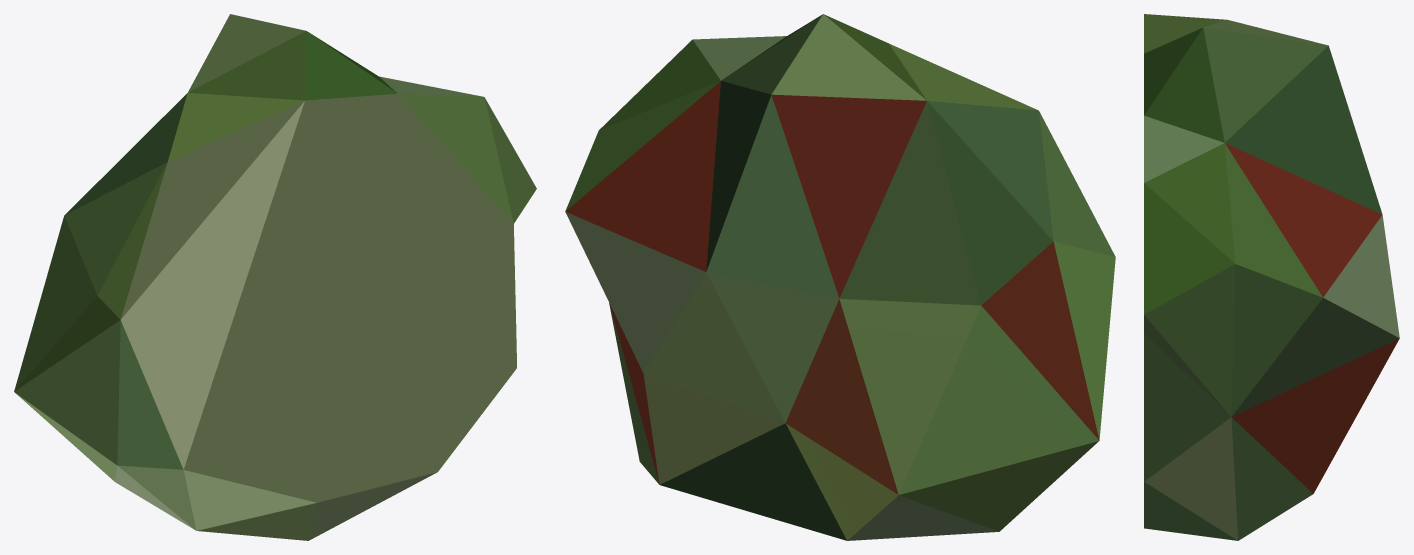
Rendered from Bush_A-DetailB.fbx.
3 views of the same model, side by side, from view 1: azimuth 30°, elevation 25°; view 2: azimuth 150°, elevation 25°; view 3: azimuth 270°, elevation 25° (orthographic). The views are drawn at different scales.
Visible parts, largest first — view 1: Bush_A-DetailB; view 2: Bush_A-DetailB; view 3: Bush_A-DetailB.
Part boxes in pixels (<box>): Bush_A-DetailB: <box>14,14,536,540</box>; Bush_A-DetailB: <box>565,14,1115,540</box>; Bush_A-DetailB: <box>1144,14,1399,540</box>.
Size of the model in its own units: 233 by 231 by 108.
